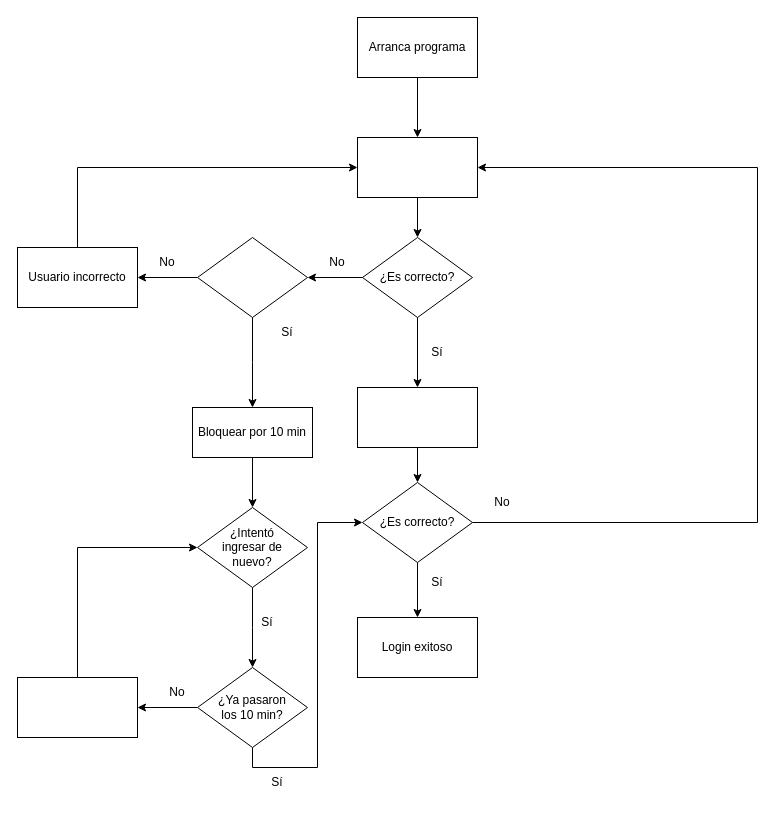
Image size: 783x815. Some labels were removed from this diagram. Each missing label, with the box of its shape:
Ingresar contraseña: (356, 386, 478, 448)
Ingresar usuario: (356, 136, 478, 198)
Mostrar tiempo restante de bloqueo: (16, 676, 138, 738)
¿Tercera vez?: (196, 236, 308, 318)
